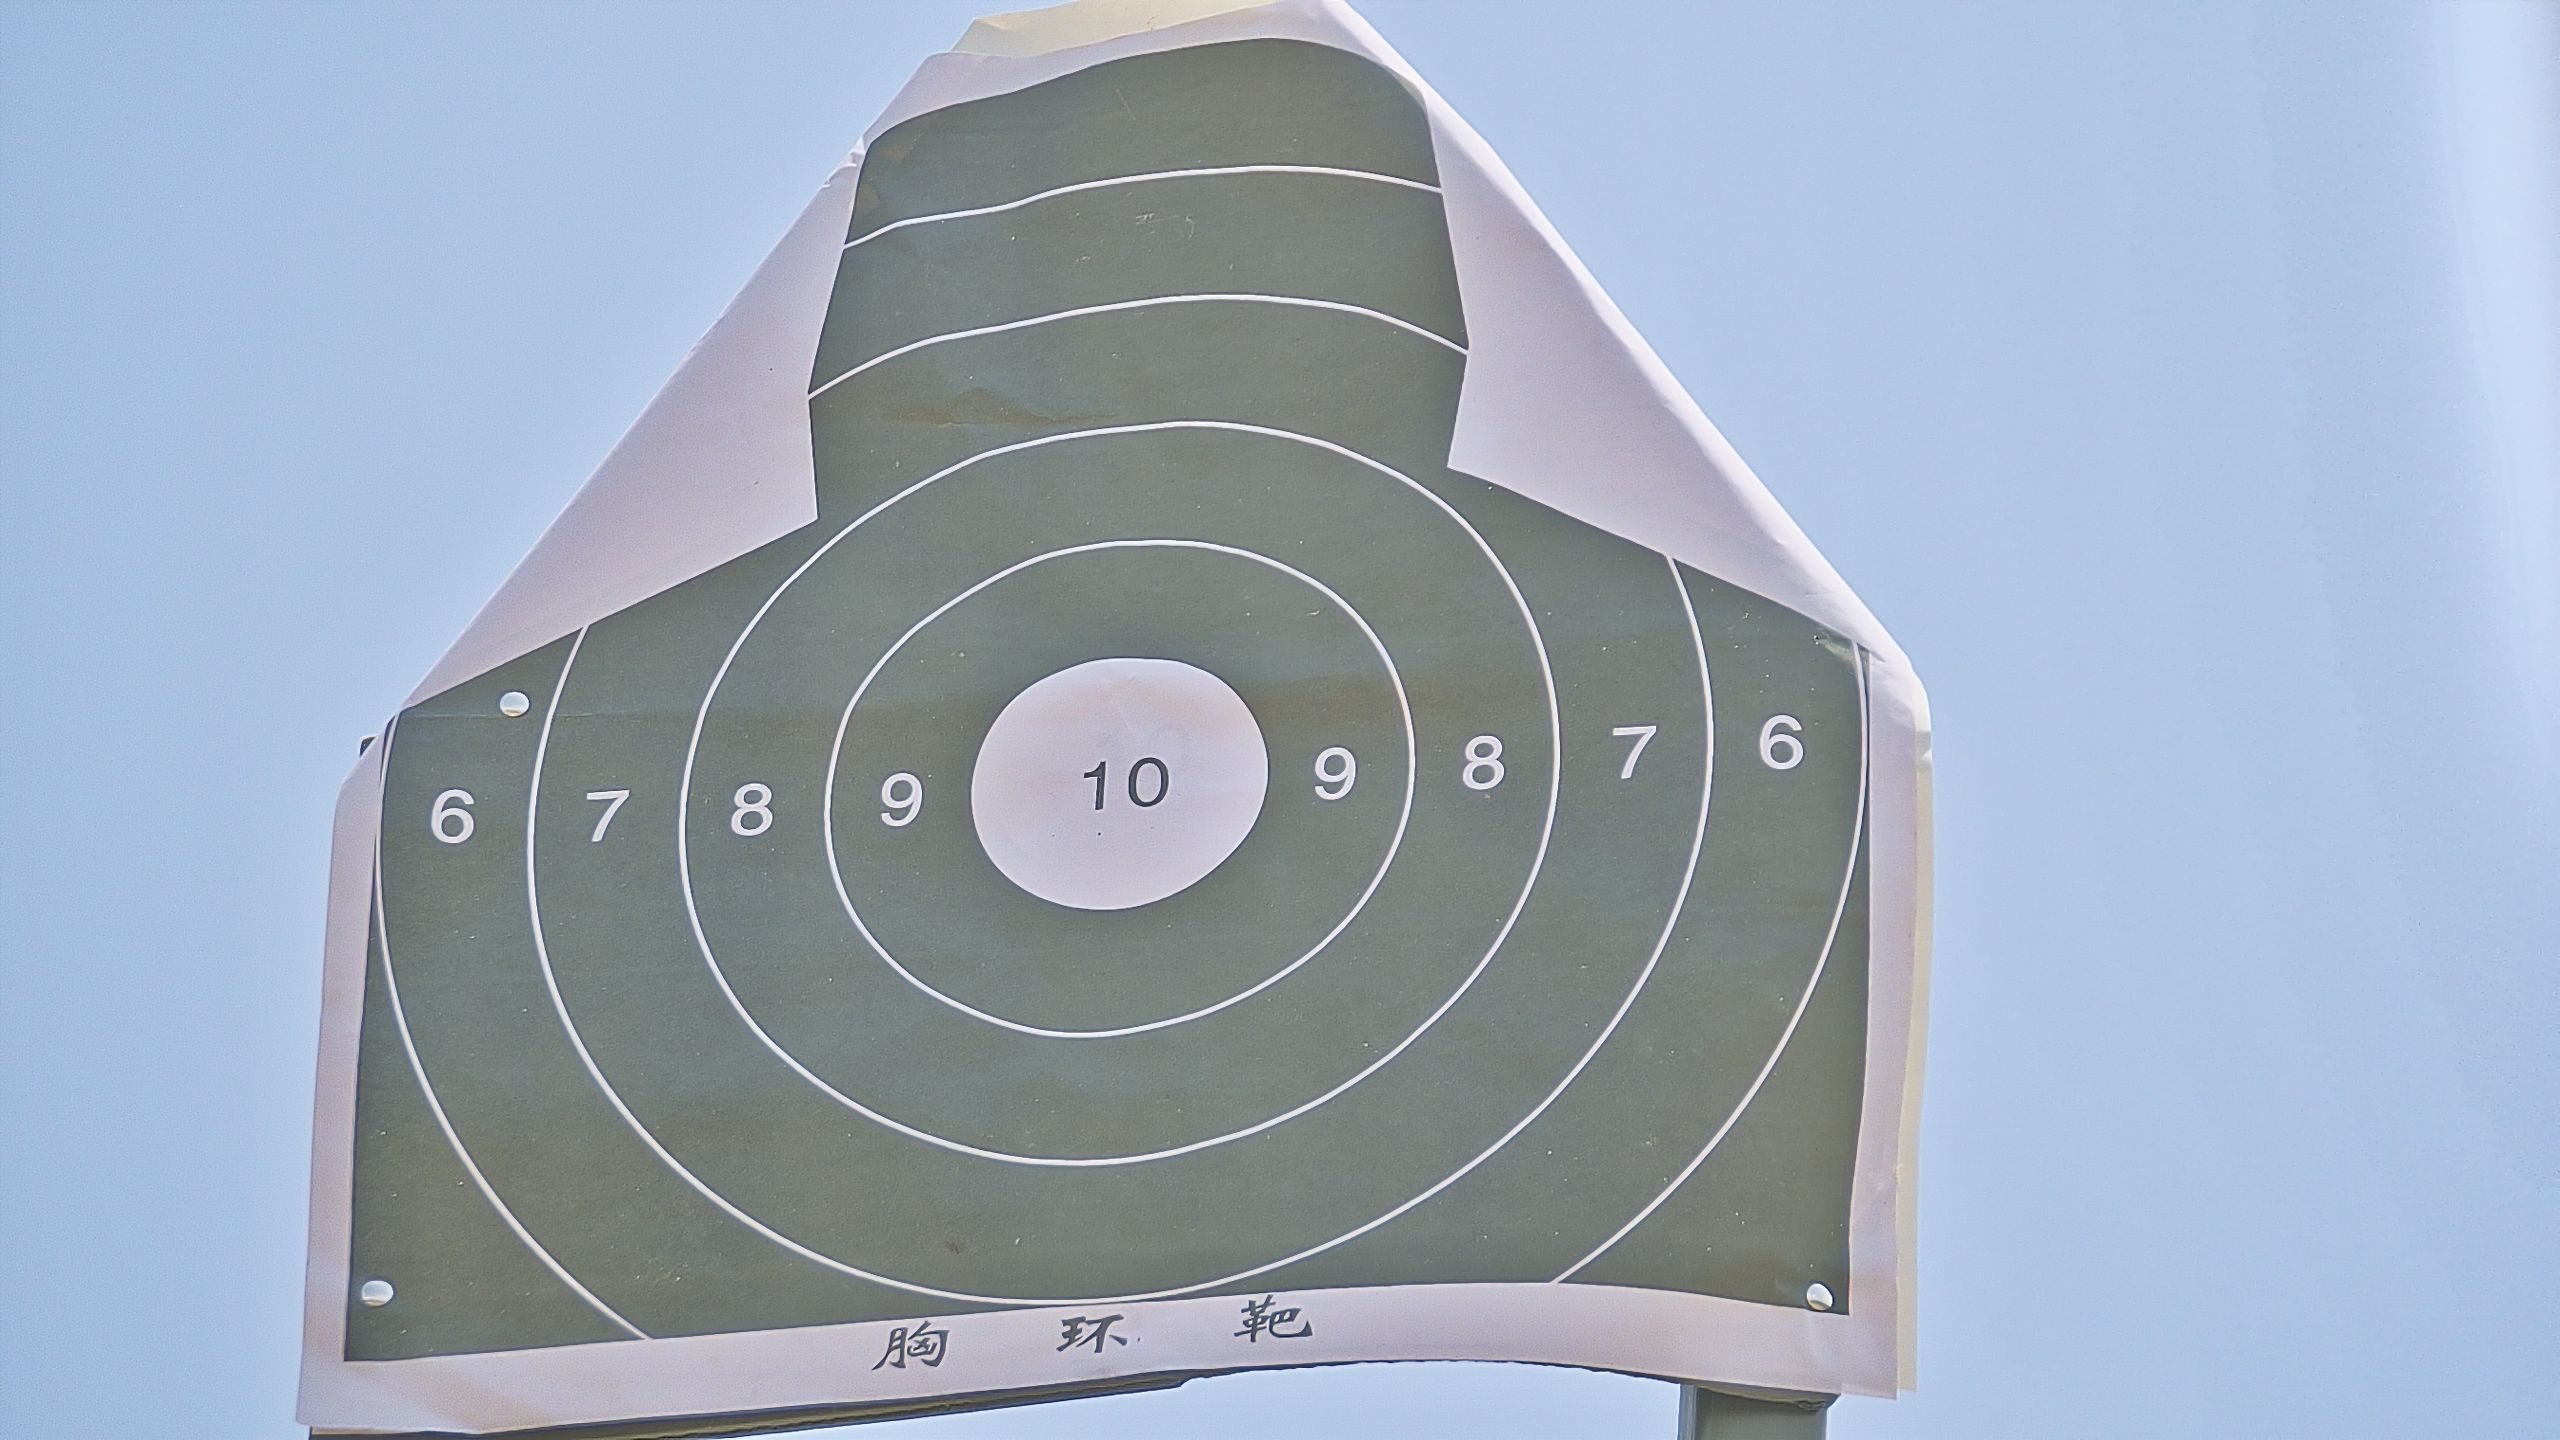target: (332, 39, 1873, 1349)
ten: (969, 654, 1276, 913)
